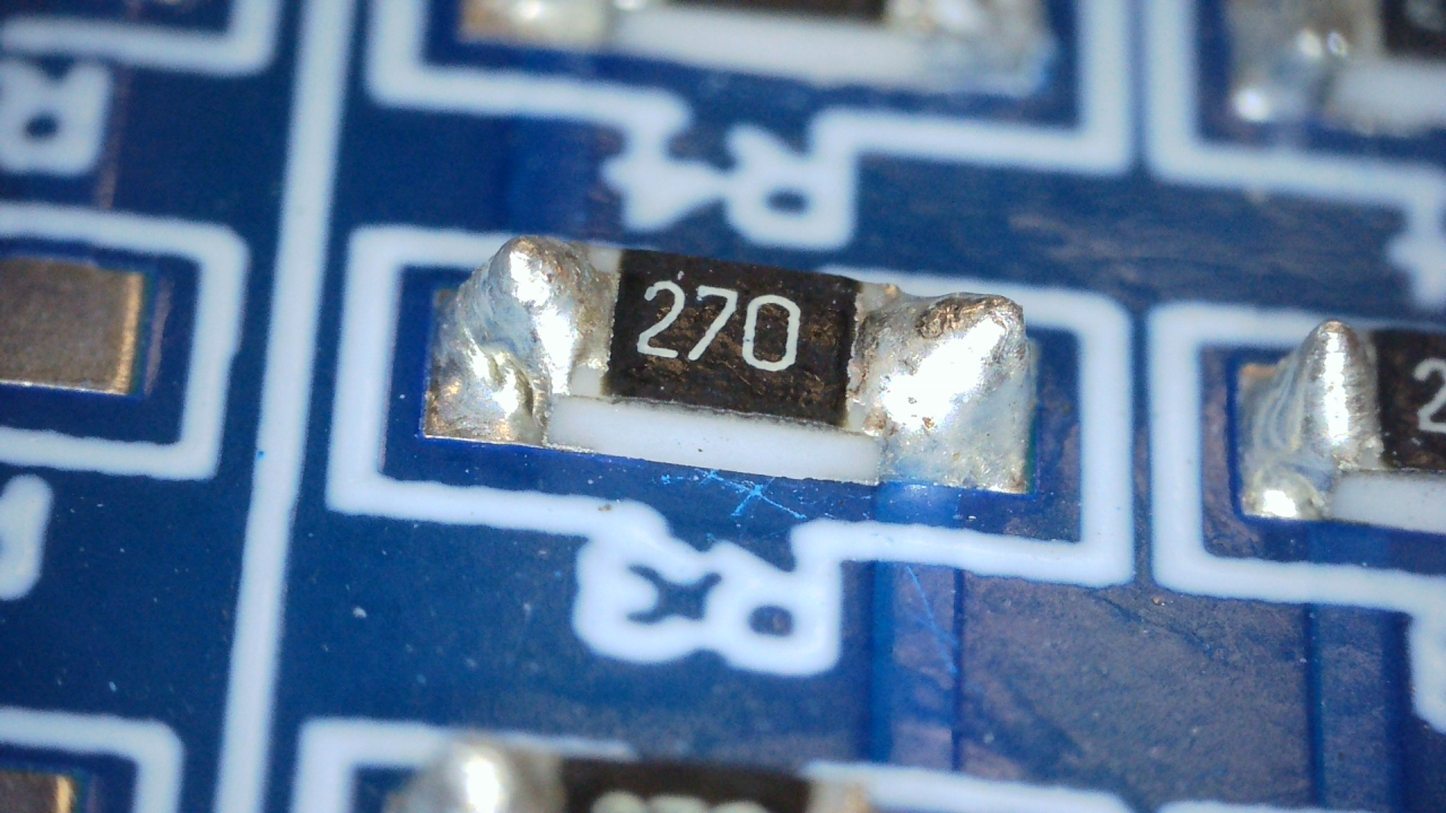NG: (856, 292, 1032, 485), (440, 234, 608, 425)
